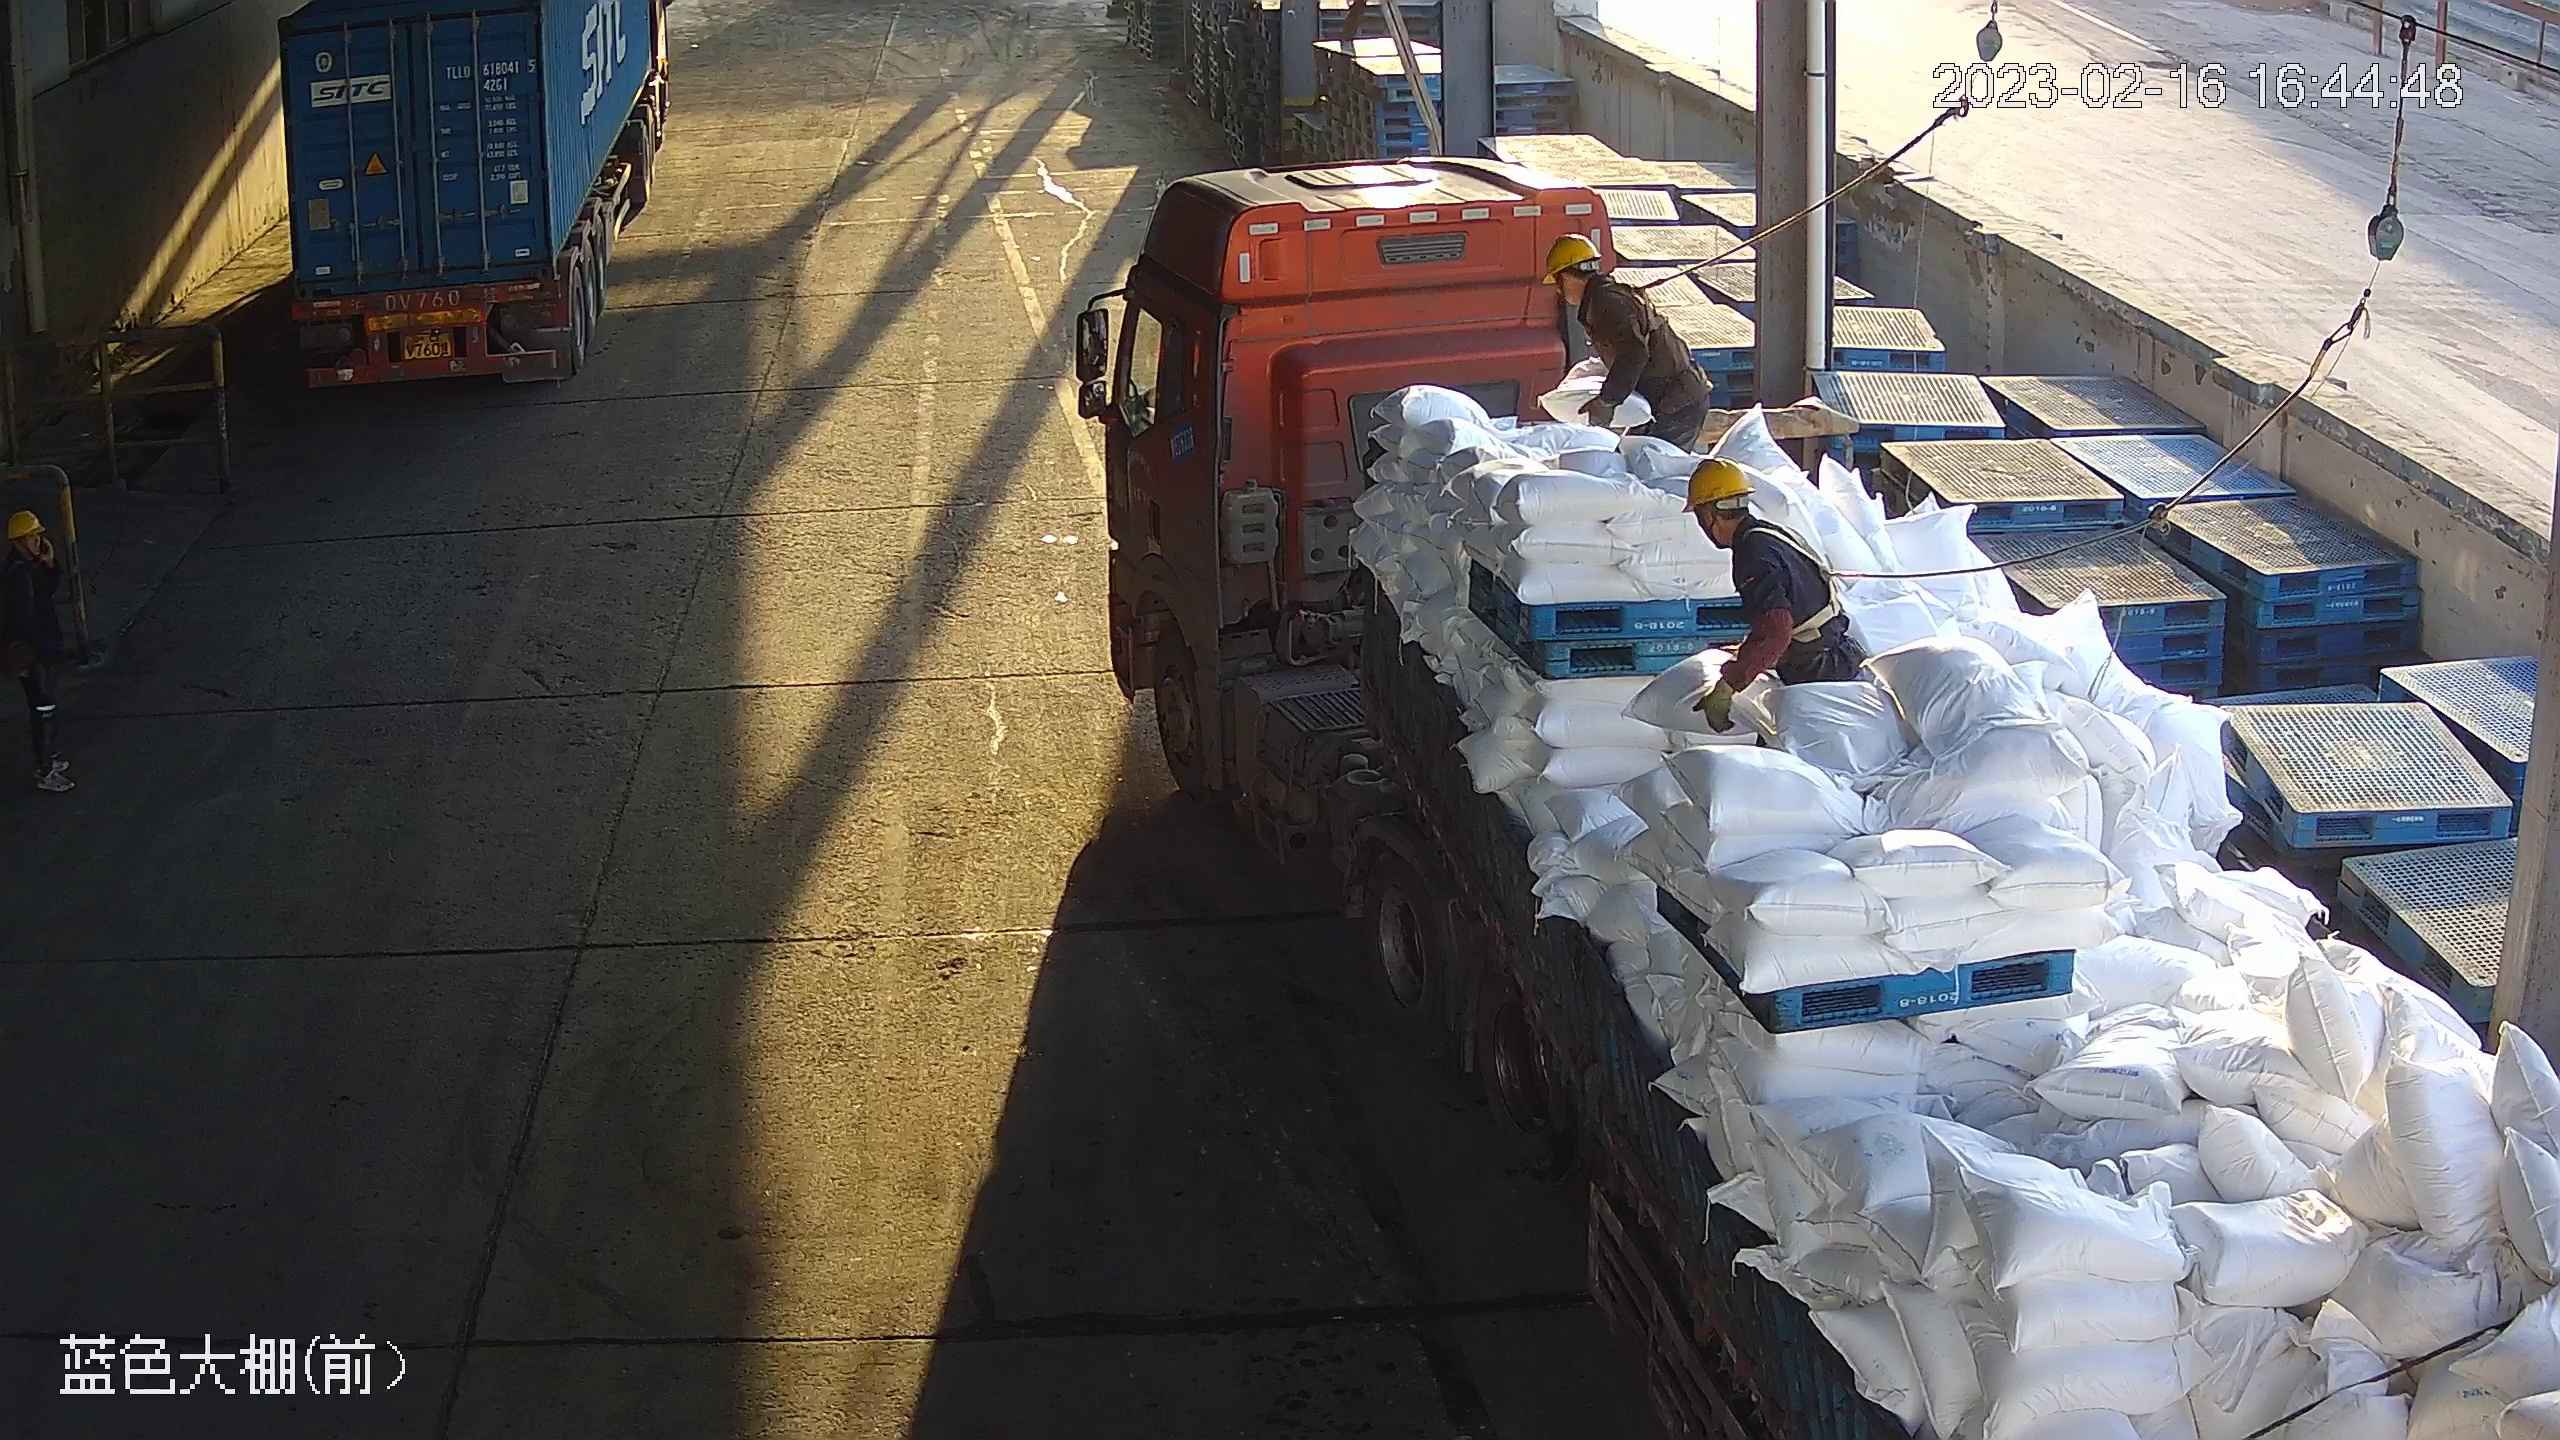belt: (1748, 523, 1870, 639), (1588, 277, 1668, 347)
head: (1672, 458, 1807, 581), (1539, 234, 1653, 337), (4, 499, 63, 579)
helmet: (1670, 460, 1756, 509), (1539, 232, 1604, 278), (4, 506, 46, 536)
people: (1528, 232, 1718, 464), (1, 490, 93, 804)
truck: (1070, 153, 2560, 1440), (265, 1, 683, 392)
